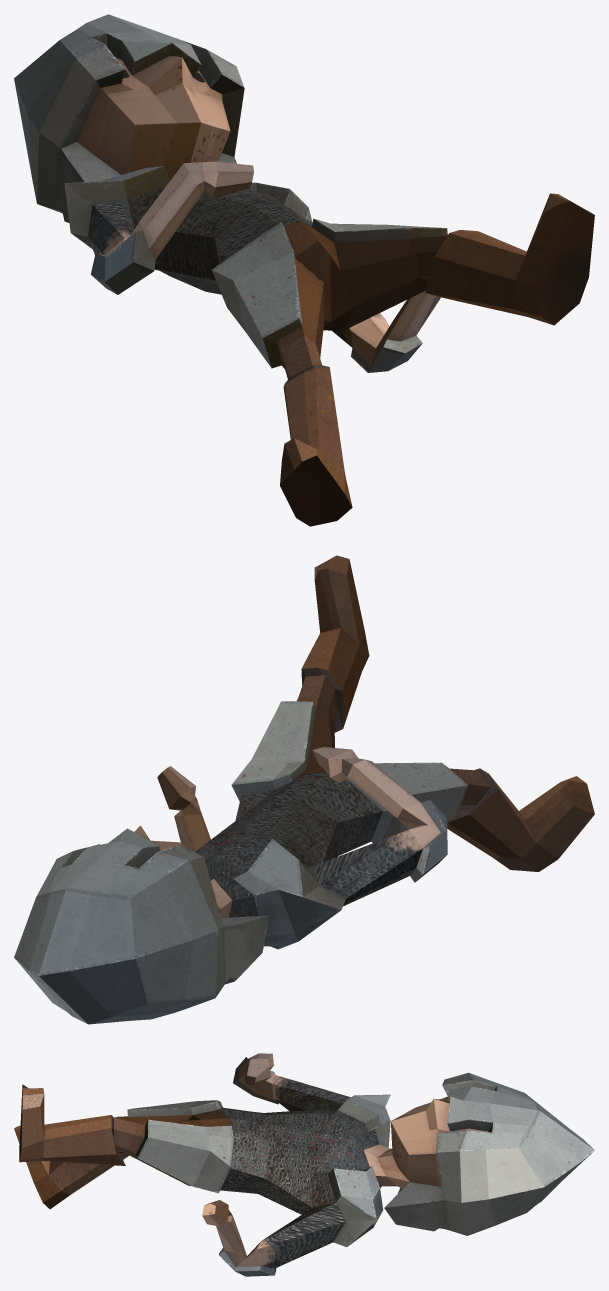
Rendered from Walk_Soldier_18.obj.
3 views of the same model, one above another, from view 1: azimuth 30°, elevation 25°; view 2: azimuth 150°, elevation 25°; view 3: azimuth 270°, elevation 25° (orthographic). The views are drawn at different scales.
Visible parts, largest first — view 1: Soldado_LowPolySTD; view 2: Soldado_LowPolySTD; view 3: Soldado_LowPolySTD.
Boxes of the visible parts, <box> form: Soldado_LowPolySTD: <box>14,14,594,526</box>; Soldado_LowPolySTD: <box>14,555,594,1024</box>; Soldado_LowPolySTD: <box>14,1053,594,1276</box>.
Bounding box in the file's own units: 0.759 × 0.5886 × 1.59.
